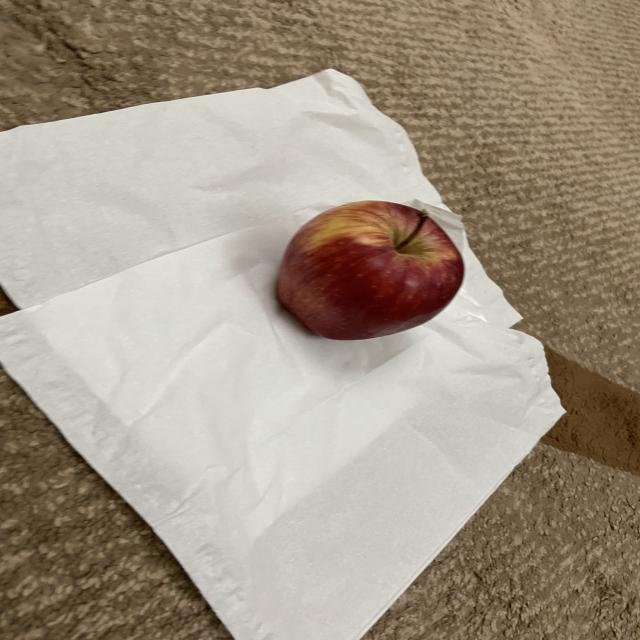apple: (267, 196, 468, 346)
